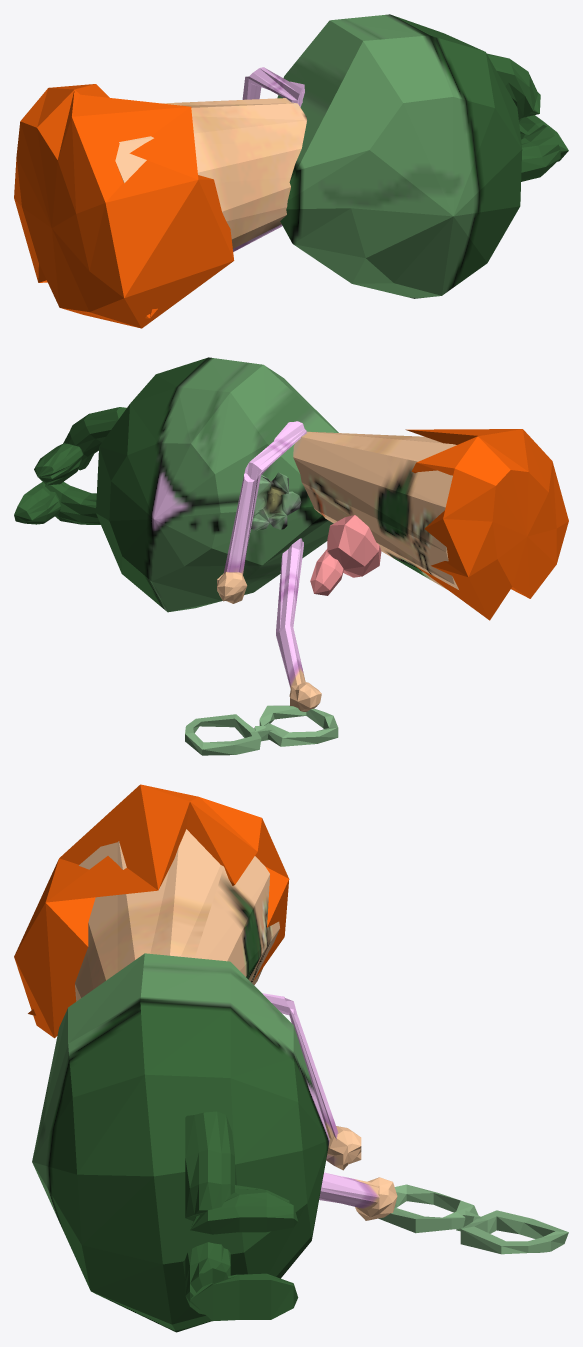
The model's file is ShikSlp.glb.
The picture shows the model from 3 angles, top to bottom: view 1: azimuth 30°, elevation 25°; view 2: azimuth 150°, elevation 25°; view 3: azimuth 270°, elevation 25°; orthographic projection. The views are drawn at different scales.
Parts seen in each view (by area): view 1: ShikSlp; view 2: ShikSlp; view 3: ShikSlp.
Boxes of the visible parts, left/top/right/bottom form: ShikSlp: left=14, top=14, right=568, bottom=328; ShikSlp: left=14, top=357, right=568, bottom=755; ShikSlp: left=14, top=784, right=568, bottom=1332.
Size of the model in its own units: 229 by 123 by 172.
Materials: 1 (1 with a texture image).
